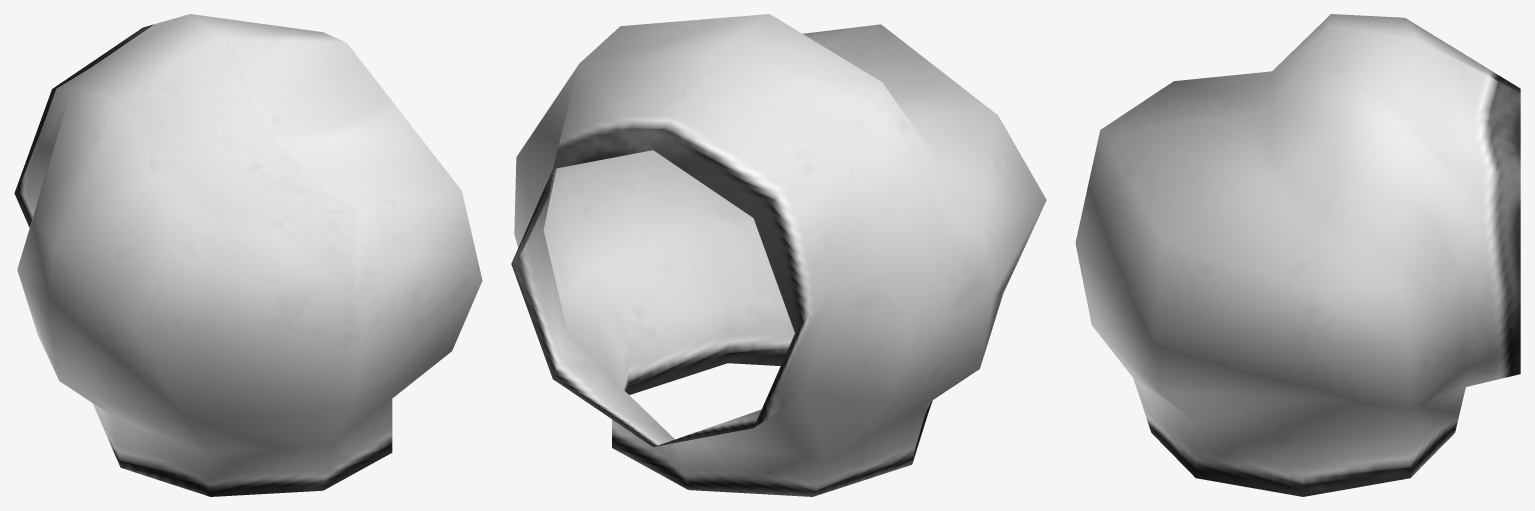
File: big_arm_link_7.dae
The picture shows the model from 3 angles, left to right: view 1: azimuth 30°, elevation 25°; view 2: azimuth 150°, elevation 25°; view 3: azimuth 270°, elevation 25°; orthographic projection. The views are drawn at different scales.
Parts seen in each view (by area): view 1: Big Arm_7; view 2: Big Arm_7; view 3: Big Arm_7.
Boxes of the visible parts, box(x1,y1,x2,y2) form: Big Arm_7: box(14, 14, 482, 496); Big Arm_7: box(511, 14, 1046, 496); Big Arm_7: box(1075, 14, 1520, 496).
Size of the model in its own units: 0.3821 by 0.3625 by 0.3589.
Materials: 1 (1 with a texture image).
